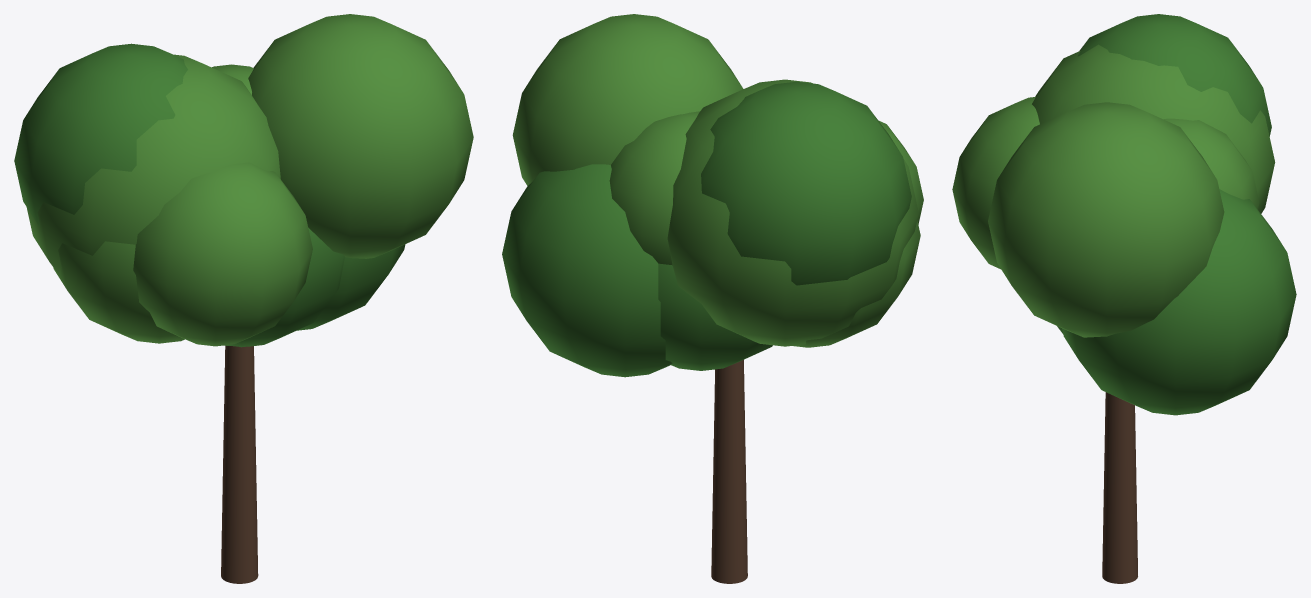
Rendered from tree.glb.
The picture shows the model from 3 angles, left to right: view 1: azimuth 30°, elevation 25°; view 2: azimuth 150°, elevation 25°; view 3: azimuth 270°, elevation 25°; orthographic projection. The views are drawn at different scales.
Visible parts, largest first — view 1: crown, Cone; view 2: crown, Cone; view 3: crown, Cone.
Boxes of the visible parts, x1,y1,x2,y2 form: crown: (14, 14, 473, 347); Cone: (221, 345, 258, 583); crown: (502, 14, 923, 377); Cone: (711, 360, 747, 583); crown: (952, 14, 1296, 415); Cone: (1102, 392, 1137, 583).
Size of the model in its own units: 2.98 by 3.77 by 2.3.
